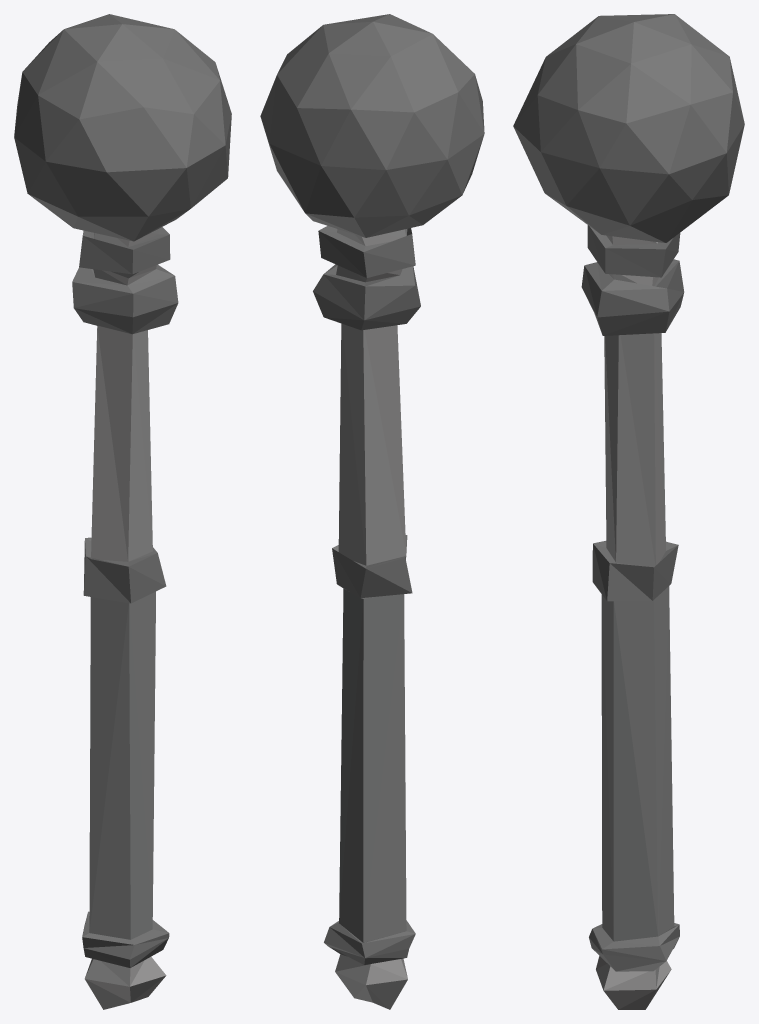
The model's file is SFM_ARP_Mace_004.fbx.
3 renders of one model, left to right at view 1: azimuth 30°, elevation 25°; view 2: azimuth 150°, elevation 25°; view 3: azimuth 270°, elevation 25°, orthographic.
Visible parts, largest first — view 1: SFM_ARP_Mace_004; view 2: SFM_ARP_Mace_004; view 3: SFM_ARP_Mace_004.
Part boxes in pixels (left/top/right/bottom): SFM_ARP_Mace_004: left=14, top=14, right=231, bottom=1009; SFM_ARP_Mace_004: left=260, top=14, right=484, bottom=1009; SFM_ARP_Mace_004: left=513, top=14, right=744, bottom=1009.
Bounding box in the file's own units: 11.35 × 56.35 × 11.96.
